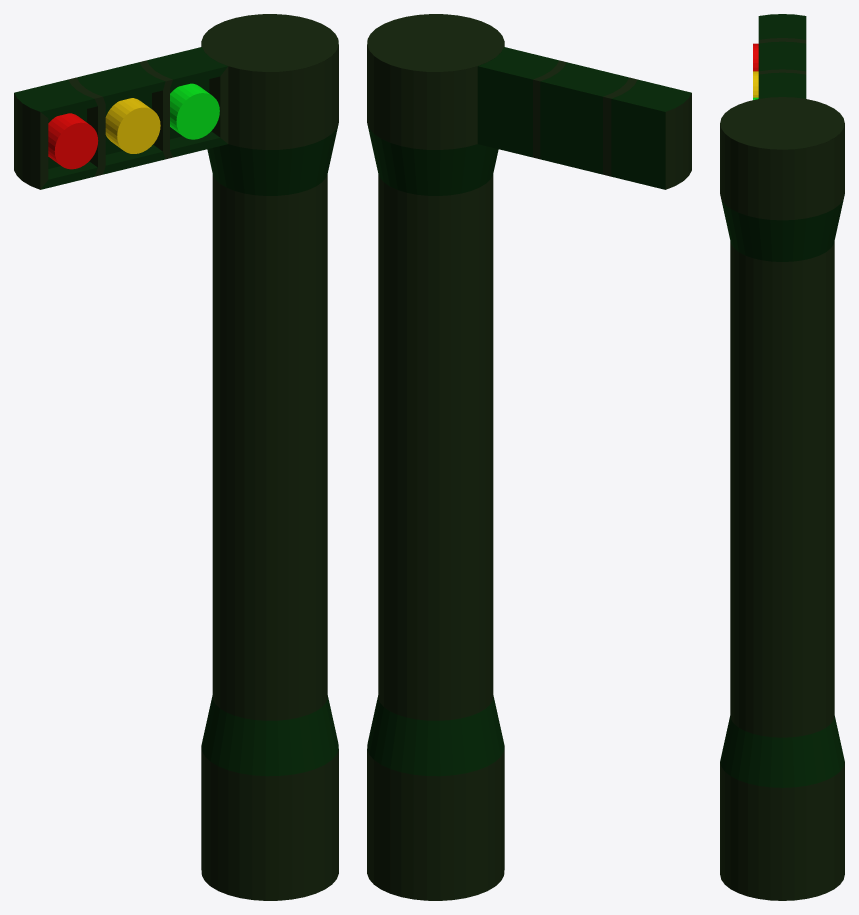
Rendered from traffic_light (1).fbx.
The picture shows the model from 3 angles, left to right: view 1: azimuth 30°, elevation 25°; view 2: azimuth 150°, elevation 25°; view 3: azimuth 270°, elevation 25°; orthographic projection. The views are drawn at different scales.
Parts seen in each view (by area): view 1: traffic_light; view 2: traffic_light; view 3: traffic_light.
Part boxes in pixels (x1,y1,x2,y2): traffic_light: (14, 14, 338, 900); traffic_light: (367, 14, 691, 900); traffic_light: (720, 14, 844, 900).
Bounding box in the file's own units: 231 × 614 × 89.6.
